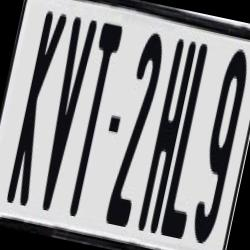2: (105, 24, 170, 222)
9: (186, 47, 250, 250)
H: (134, 34, 200, 241)
K: (2, 11, 68, 216)
L: (157, 41, 223, 246)
T: (64, 19, 124, 214)
V: (31, 14, 101, 224)
